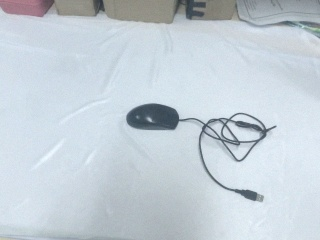box: (100, 1, 184, 26), (184, 1, 238, 22), (51, 1, 104, 18)
mouse: (126, 102, 180, 131)
